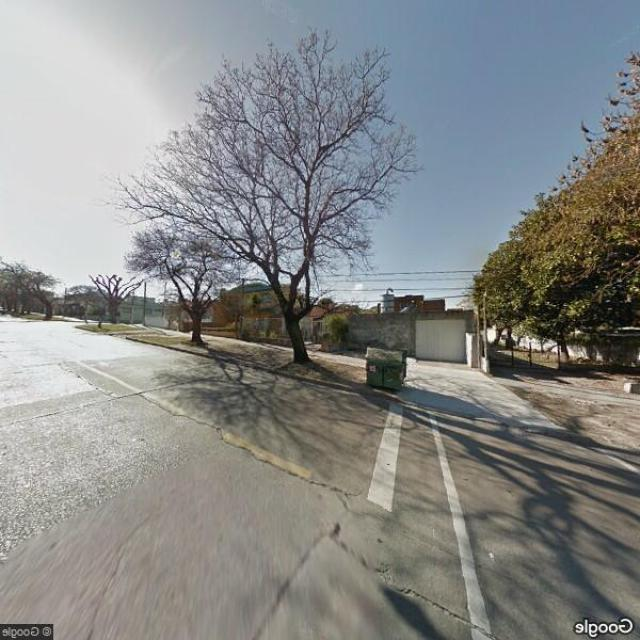garbage container: (359, 341, 415, 399)
